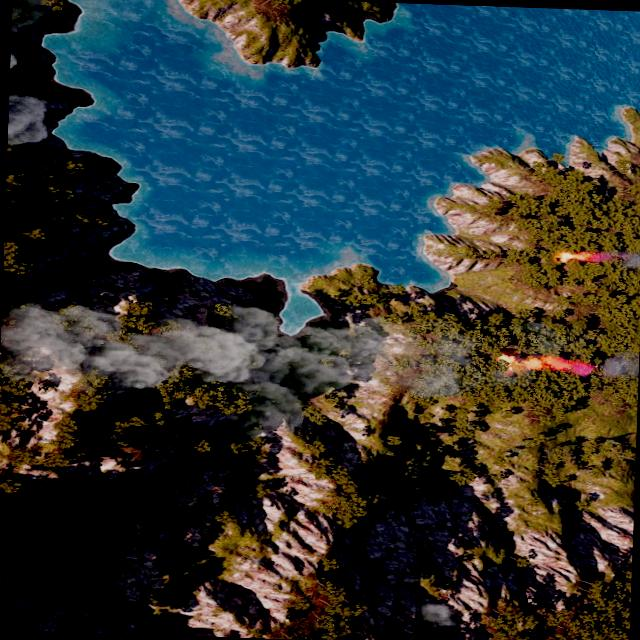fire: (497, 353, 584, 380), (556, 250, 596, 264)
smoke: (0, 292, 471, 440), (6, 94, 47, 146), (589, 354, 639, 384)
